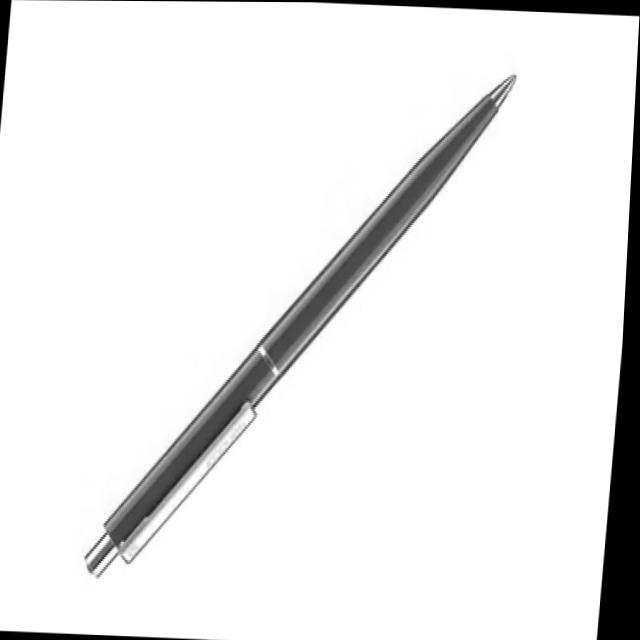pen: (81, 58, 518, 596)
